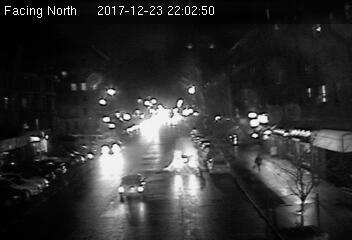car: (116, 170, 147, 198), (209, 157, 230, 174)
